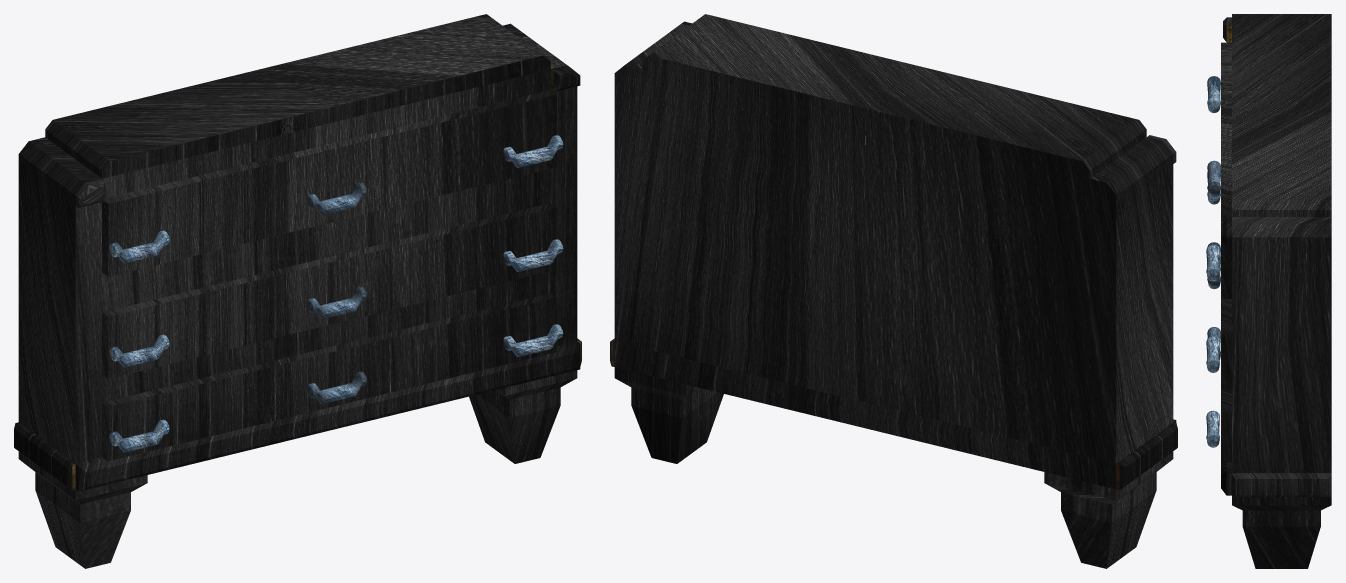
File: Drawers.fbx
3 renders of one model, left to right at view 1: azimuth 30°, elevation 25°; view 2: azimuth 150°, elevation 25°; view 3: azimuth 270°, elevation 25°, orthographic. The views are drawn at different scales.
Parts seen in each view (by area): view 1: Drawers, Handles7; view 2: Drawers; view 3: Drawers, Handles7.
Part boxes in pixels (x1,y1,x2,y2): Drawers: (14, 14, 581, 568); Handles7: (109, 135, 563, 452); Drawers: (610, 14, 1177, 568); Drawers: (1221, 14, 1331, 568); Handles7: (1206, 76, 1221, 447).
Size of the model in its own units: 10.17 by 7.83 by 2.44.
5 materials, 4 textured.
